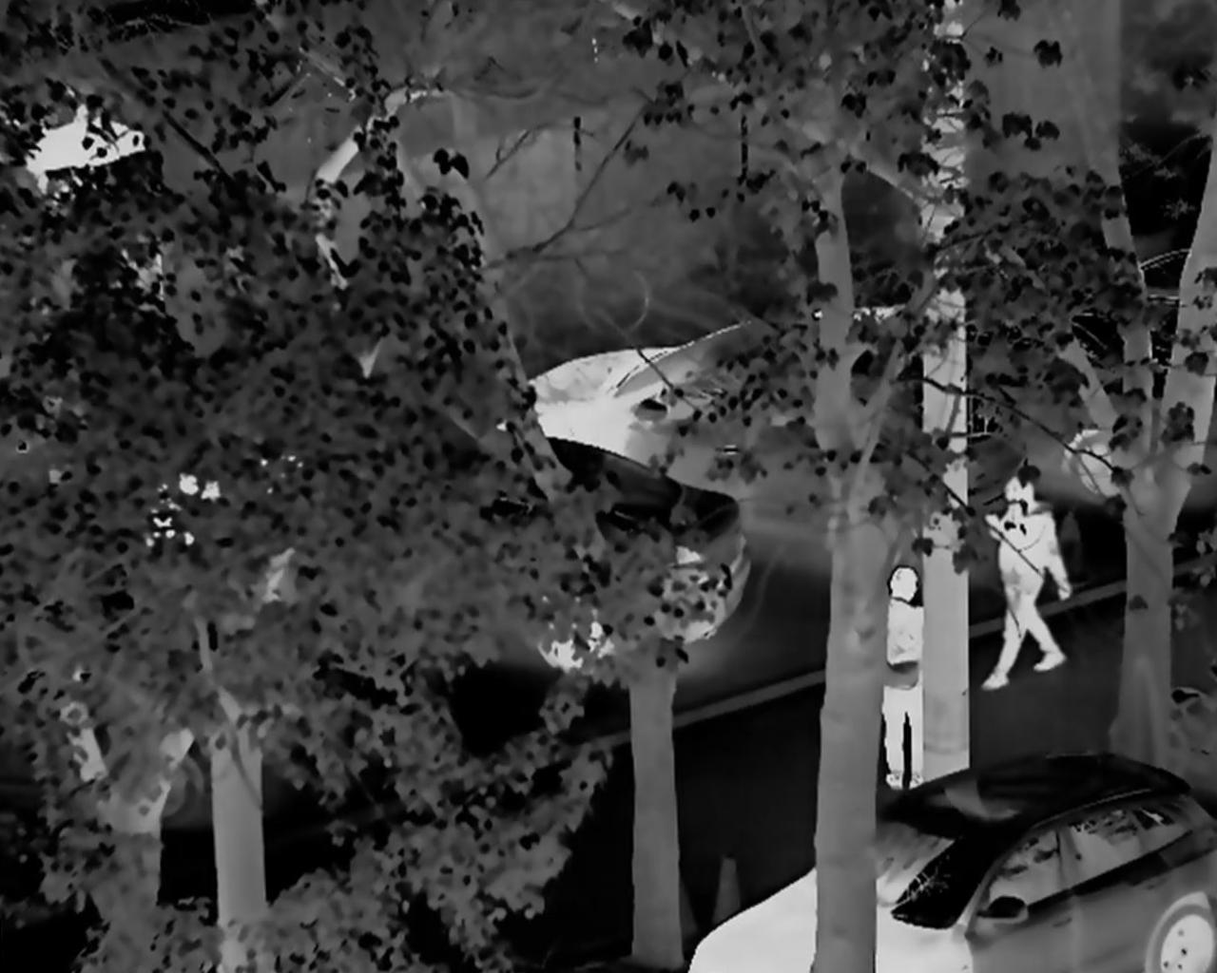person: (982, 460, 1078, 692), (868, 562, 944, 800)
